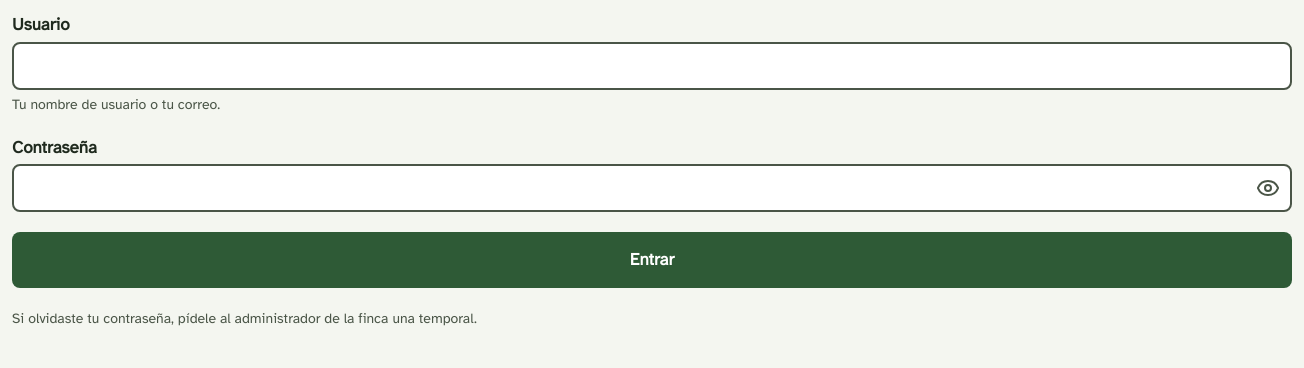
Test: LoginForm › pone junto al campo los errores por campo de VALIDATION_FAILED
The image size is (1304, 368).
Type "alvaro" into the field labelled "Usuario" at (652, 66), box [12, 42, 1292, 90]
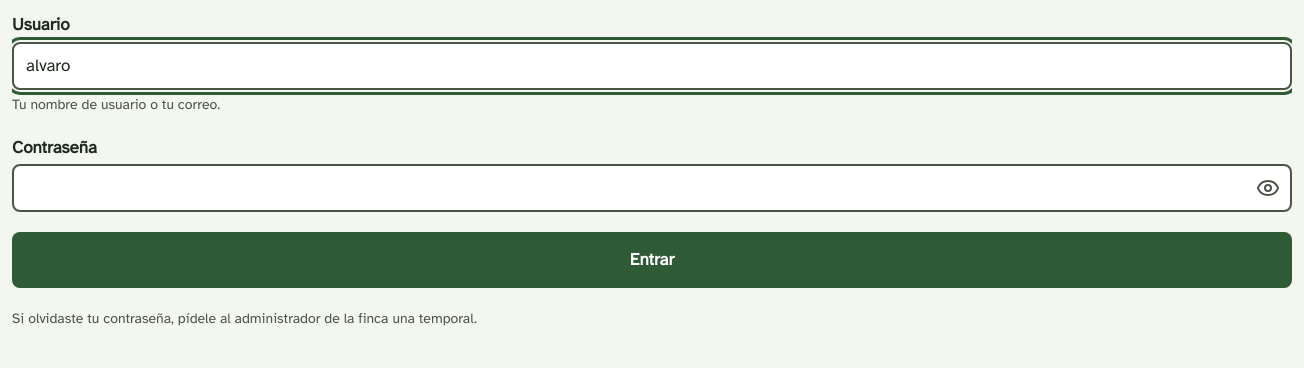
Type "clave-secreta" into the password field labelled "Contraseña" at (652, 188), box [12, 164, 1292, 212]
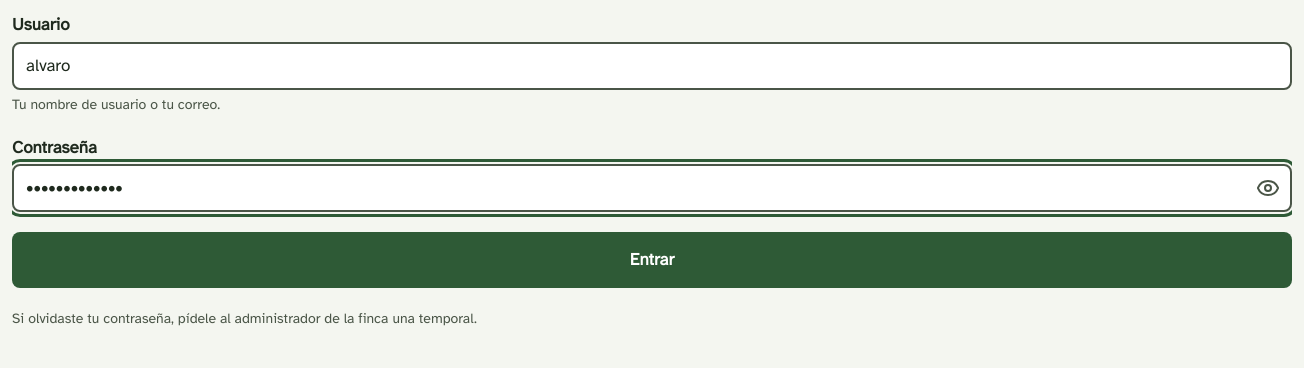
Click the button "Entrar" at (652, 260), box [12, 232, 1292, 288]
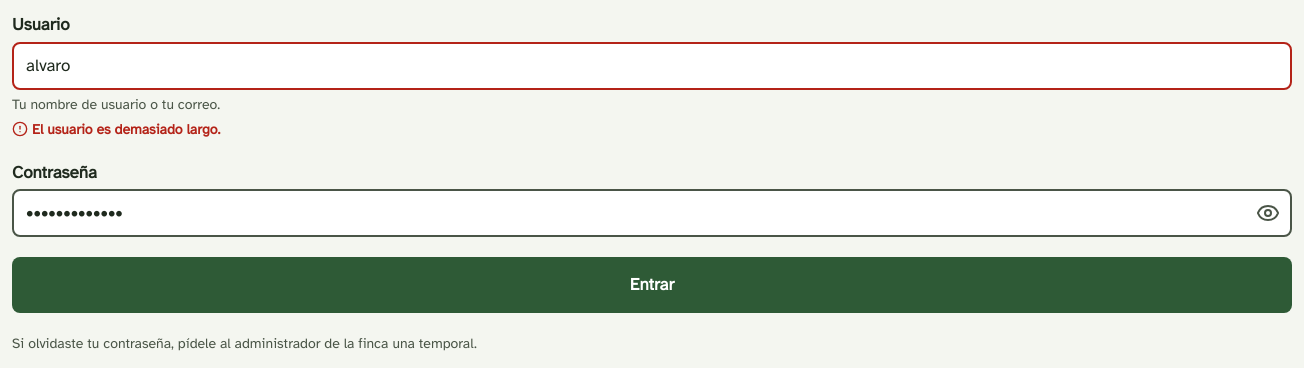
Now the text "El usuario es demasiado largo." is shown, box [12, 120, 220, 138]
